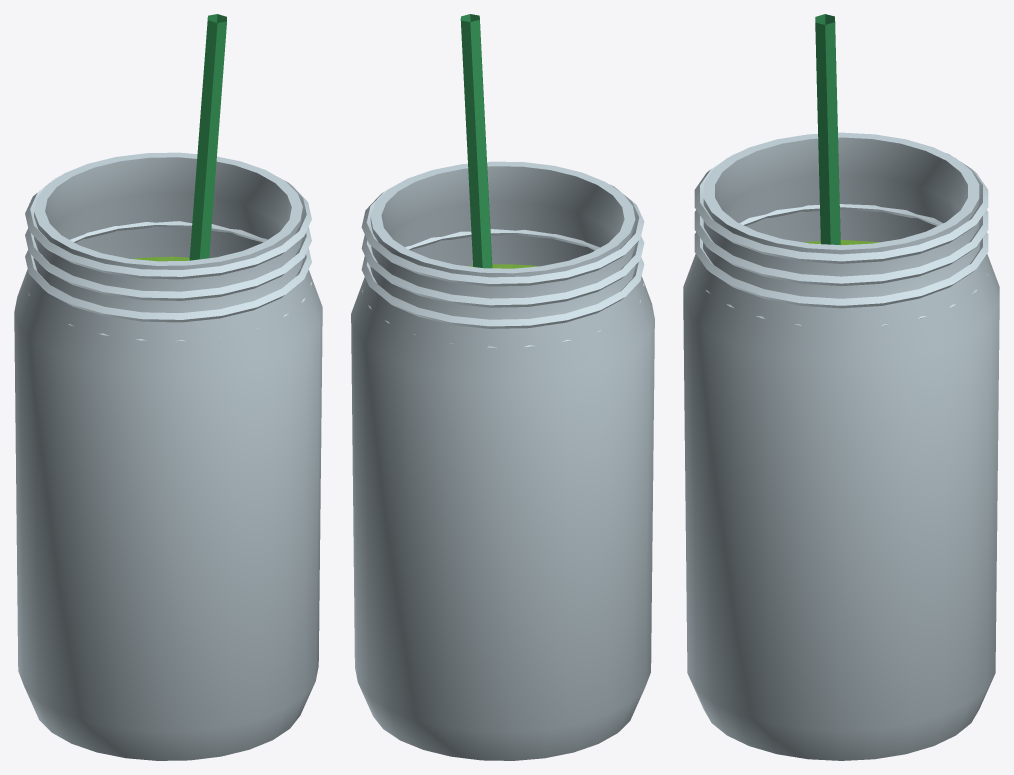
File: drink_mason_jar_green_smoothie.glb
The picture shows the model from 3 angles, left to right: view 1: azimuth 30°, elevation 25°; view 2: azimuth 150°, elevation 25°; view 3: azimuth 270°, elevation 25°; orthographic projection. The views are drawn at different scales.
Parts seen in each view (by area): view 1: drink_mason_jar_green_smoothie; view 2: drink_mason_jar_green_smoothie; view 3: drink_mason_jar_green_smoothie.
Part boxes in pixels (box(x1,y1,x2,y2)): drink_mason_jar_green_smoothie: box(14, 14, 322, 760); drink_mason_jar_green_smoothie: box(351, 14, 654, 760); drink_mason_jar_green_smoothie: box(683, 14, 999, 760).
Bounding box in the file's own units: 0.078 × 0.1902 × 0.0774.
